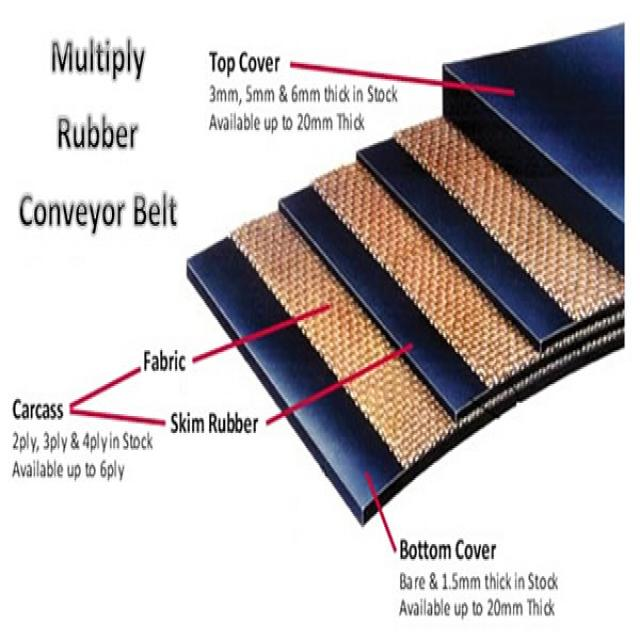convoyeur: (175, 22, 628, 529)
